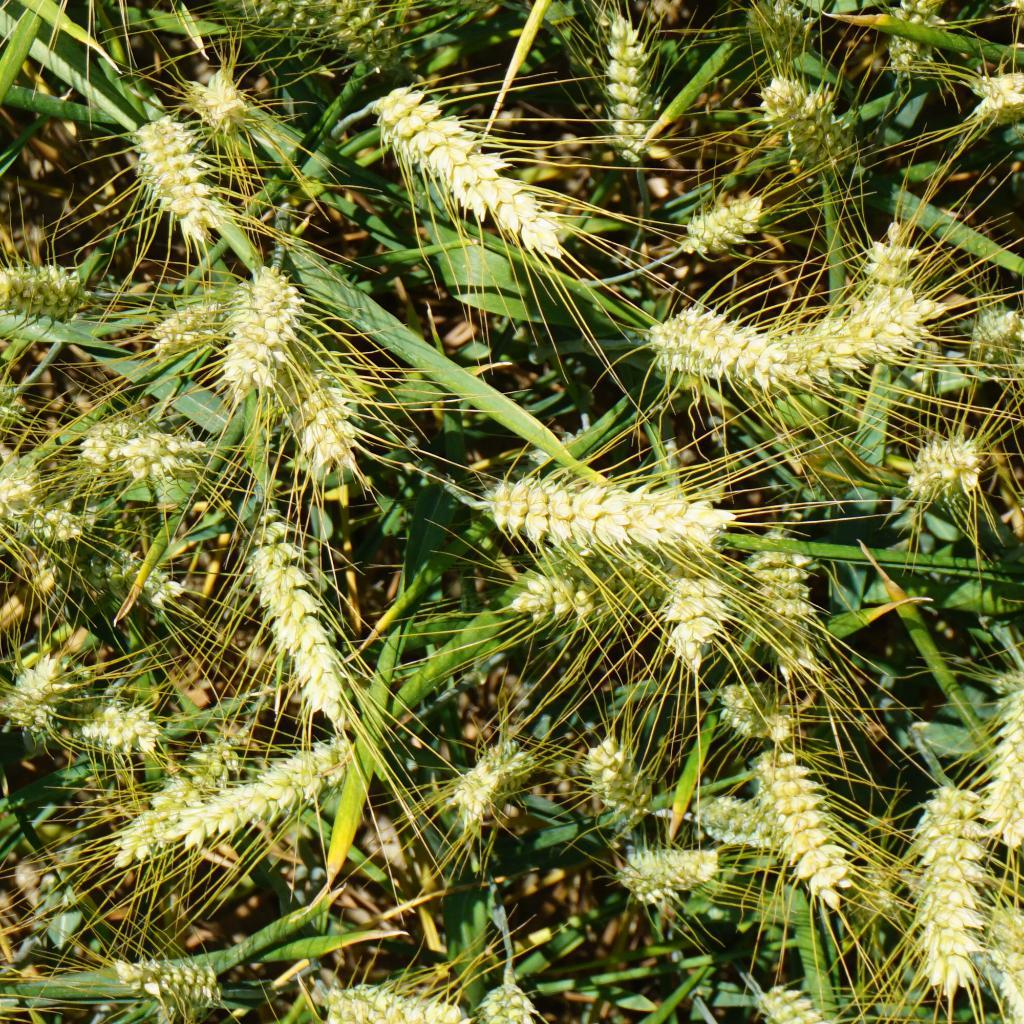0-0: (371, 91, 559, 260), (476, 468, 749, 559), (251, 533, 367, 731), (907, 764, 988, 999), (752, 756, 861, 910), (848, 208, 957, 344), (740, 519, 830, 682), (635, 300, 776, 398), (206, 743, 341, 837), (587, 9, 668, 156), (771, 403, 874, 518), (126, 115, 226, 233), (758, 68, 859, 183), (496, 564, 648, 638), (776, 301, 883, 395), (220, 277, 294, 403), (704, 664, 810, 748), (297, 367, 368, 484), (457, 731, 548, 822), (983, 659, 1024, 849), (899, 425, 985, 515), (116, 951, 222, 1024), (85, 412, 203, 477), (318, 968, 450, 1024), (587, 731, 660, 828), (284, 0, 396, 60), (4, 648, 75, 742), (735, 0, 830, 70), (624, 833, 713, 907), (881, 0, 954, 89), (676, 188, 769, 257), (661, 560, 723, 656), (113, 551, 200, 617), (122, 776, 190, 856), (82, 698, 169, 760), (691, 780, 775, 843), (0, 261, 86, 320), (180, 68, 257, 132), (964, 288, 1024, 369), (989, 910, 1024, 1024), (972, 59, 1024, 135), (143, 301, 220, 352), (759, 963, 821, 1024), (0, 459, 38, 533), (490, 967, 539, 1024), (392, 0, 527, 20), (36, 500, 92, 536), (0, 376, 29, 439), (221, 0, 291, 24), (1001, 0, 1024, 16)
